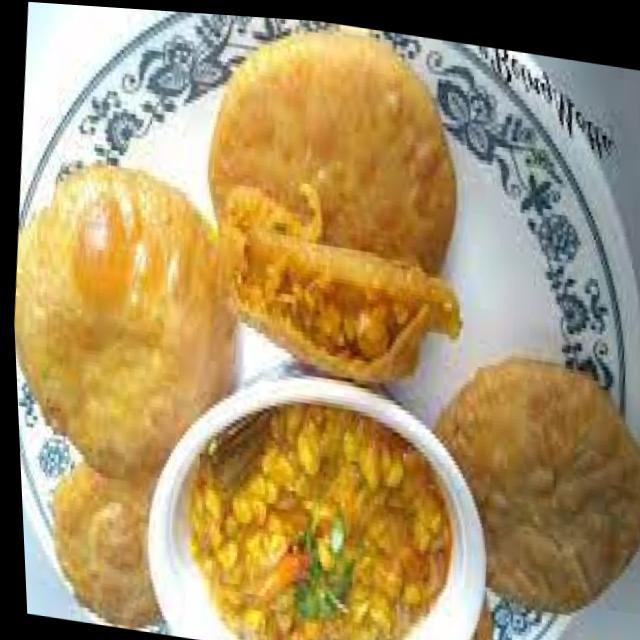CURRY: (177, 408, 453, 640)
POORI: (14, 33, 640, 625)
